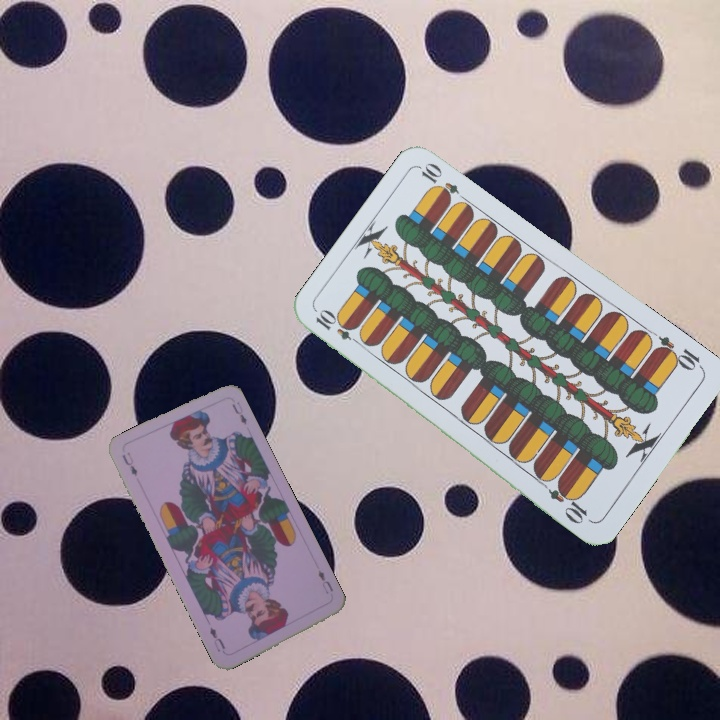E10: (650, 332, 706, 374), (311, 307, 366, 349)
EU: (314, 566, 336, 597), (118, 448, 140, 478)
